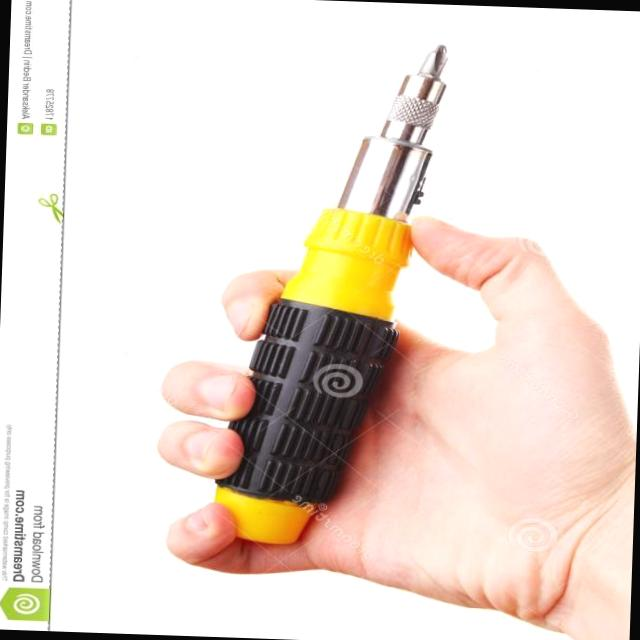screwdriver: (216, 45, 445, 542)
